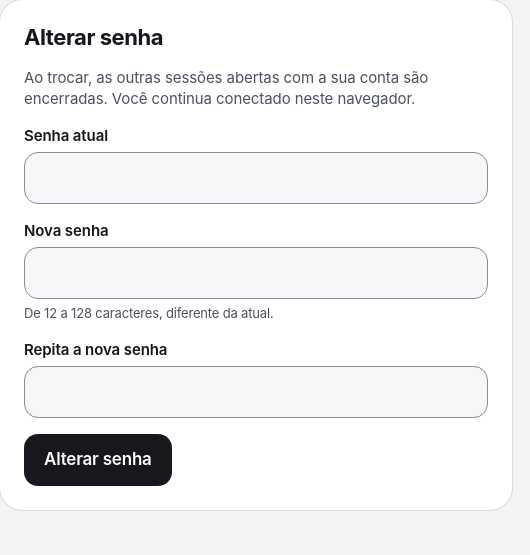
Test: PasswordForm › 422 weak_password: o texto do campo vem do code (too_short, same_as_current)
Type "senha-atual-bem-longa" into the password field labelled "Senha atual" at [256, 178], box [24,152,488,204]
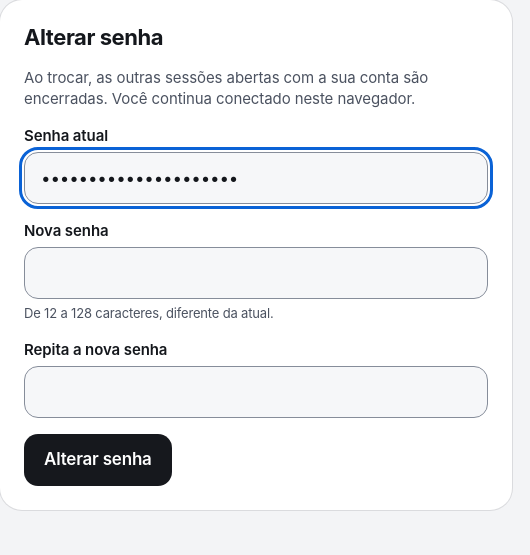
Type "uma-senha-nova-bem-longa" into the password field labelled "Nova senha" at [256, 273], box [24,247,488,299]
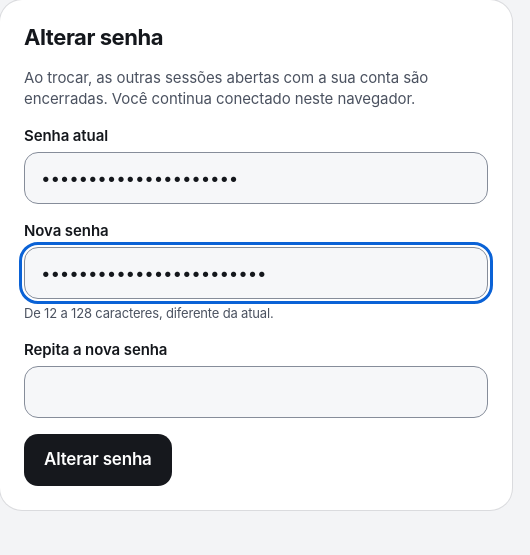
Type "uma-senha-nova-bem-longa" into the password field labelled "Repita a nova senha" at [256, 392], box [24,366,488,418]
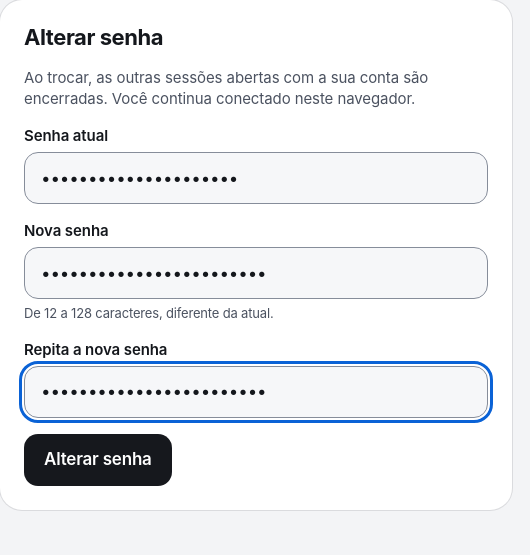
Click the button "Alterar senha" at [98, 460], box [24,434,172,486]
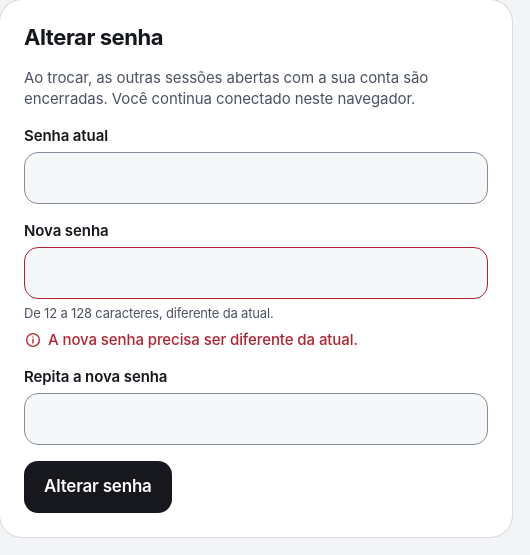
Expected: the text "A nova senha precisa ser diferente da atual." is shown, [24,330,358,349]
